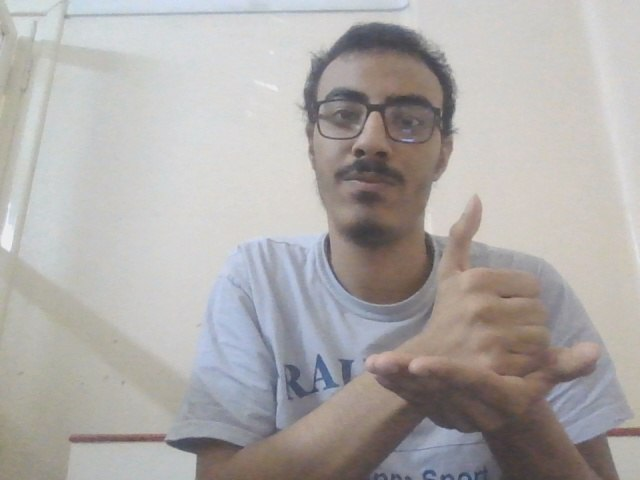Help: (355, 193, 623, 438)
